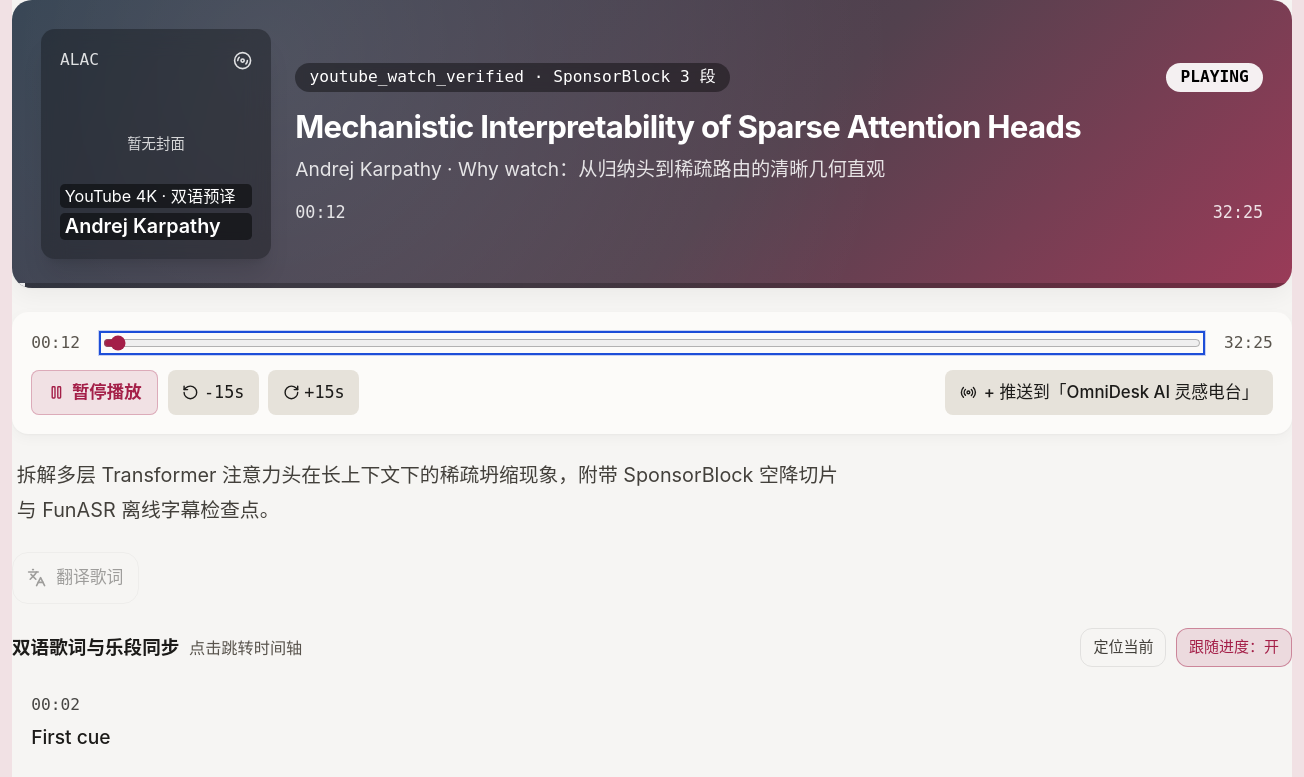
Test: centers each current lyric in its pane without stealing playback control focus
The image size is (1304, 777).
Later steps or results of the test are not shown.
What coordinates should you click on to do the following:
click the button "跟随进度：开"
I would click on:
 (1234, 648)
Its box is [1176,628,1292,667].
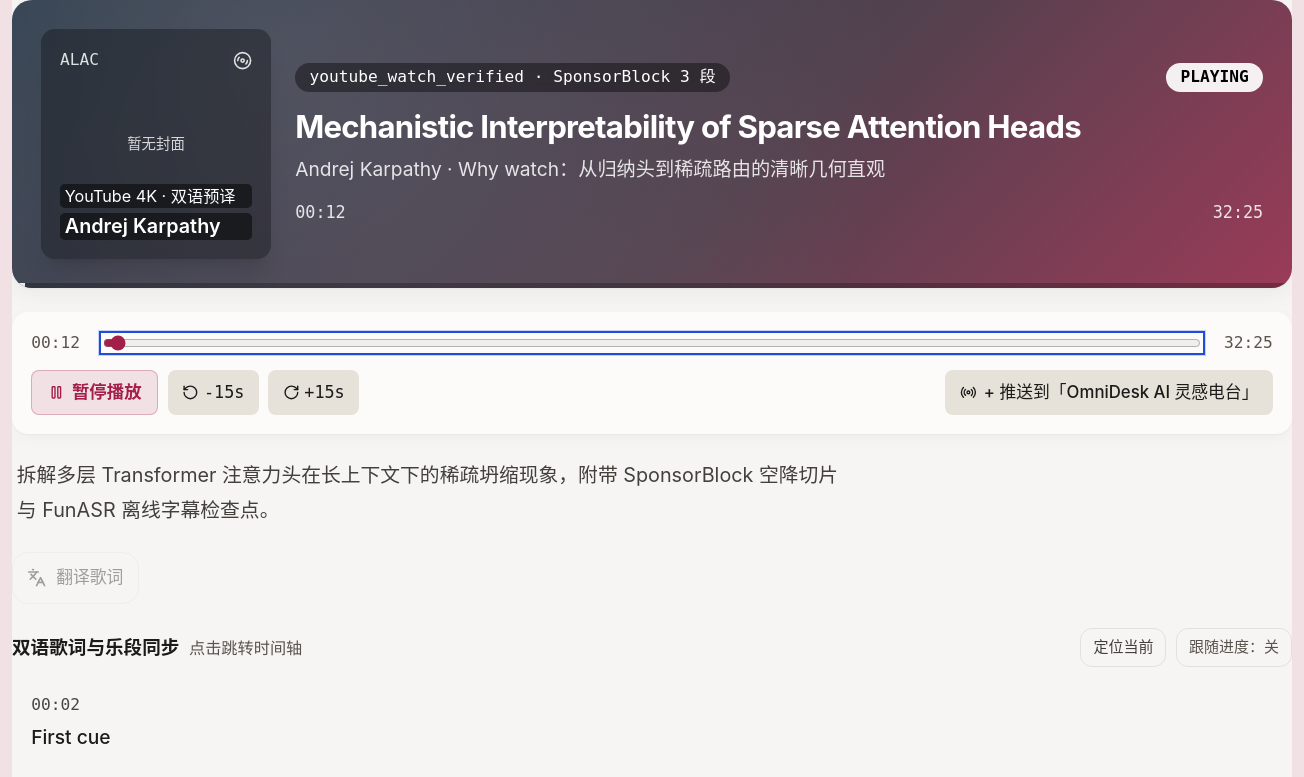
Now the button "跟随进度：关" is not pressed, box [1176,628,1292,667]
